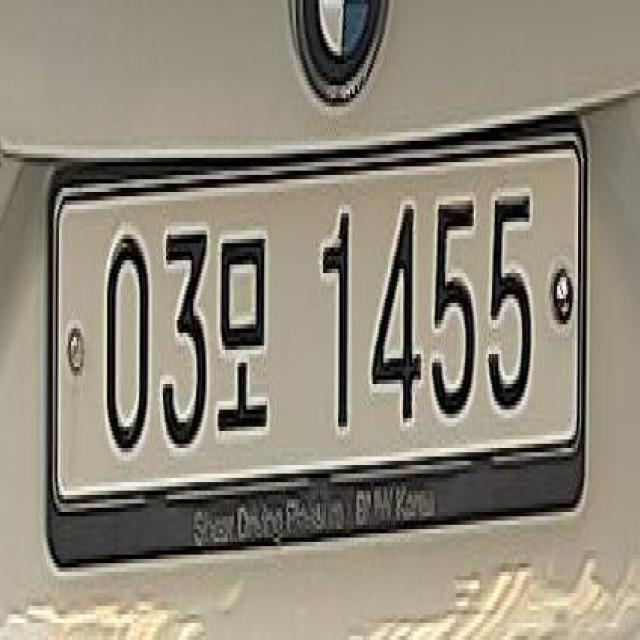illegal_plate: (43, 116, 603, 566)
